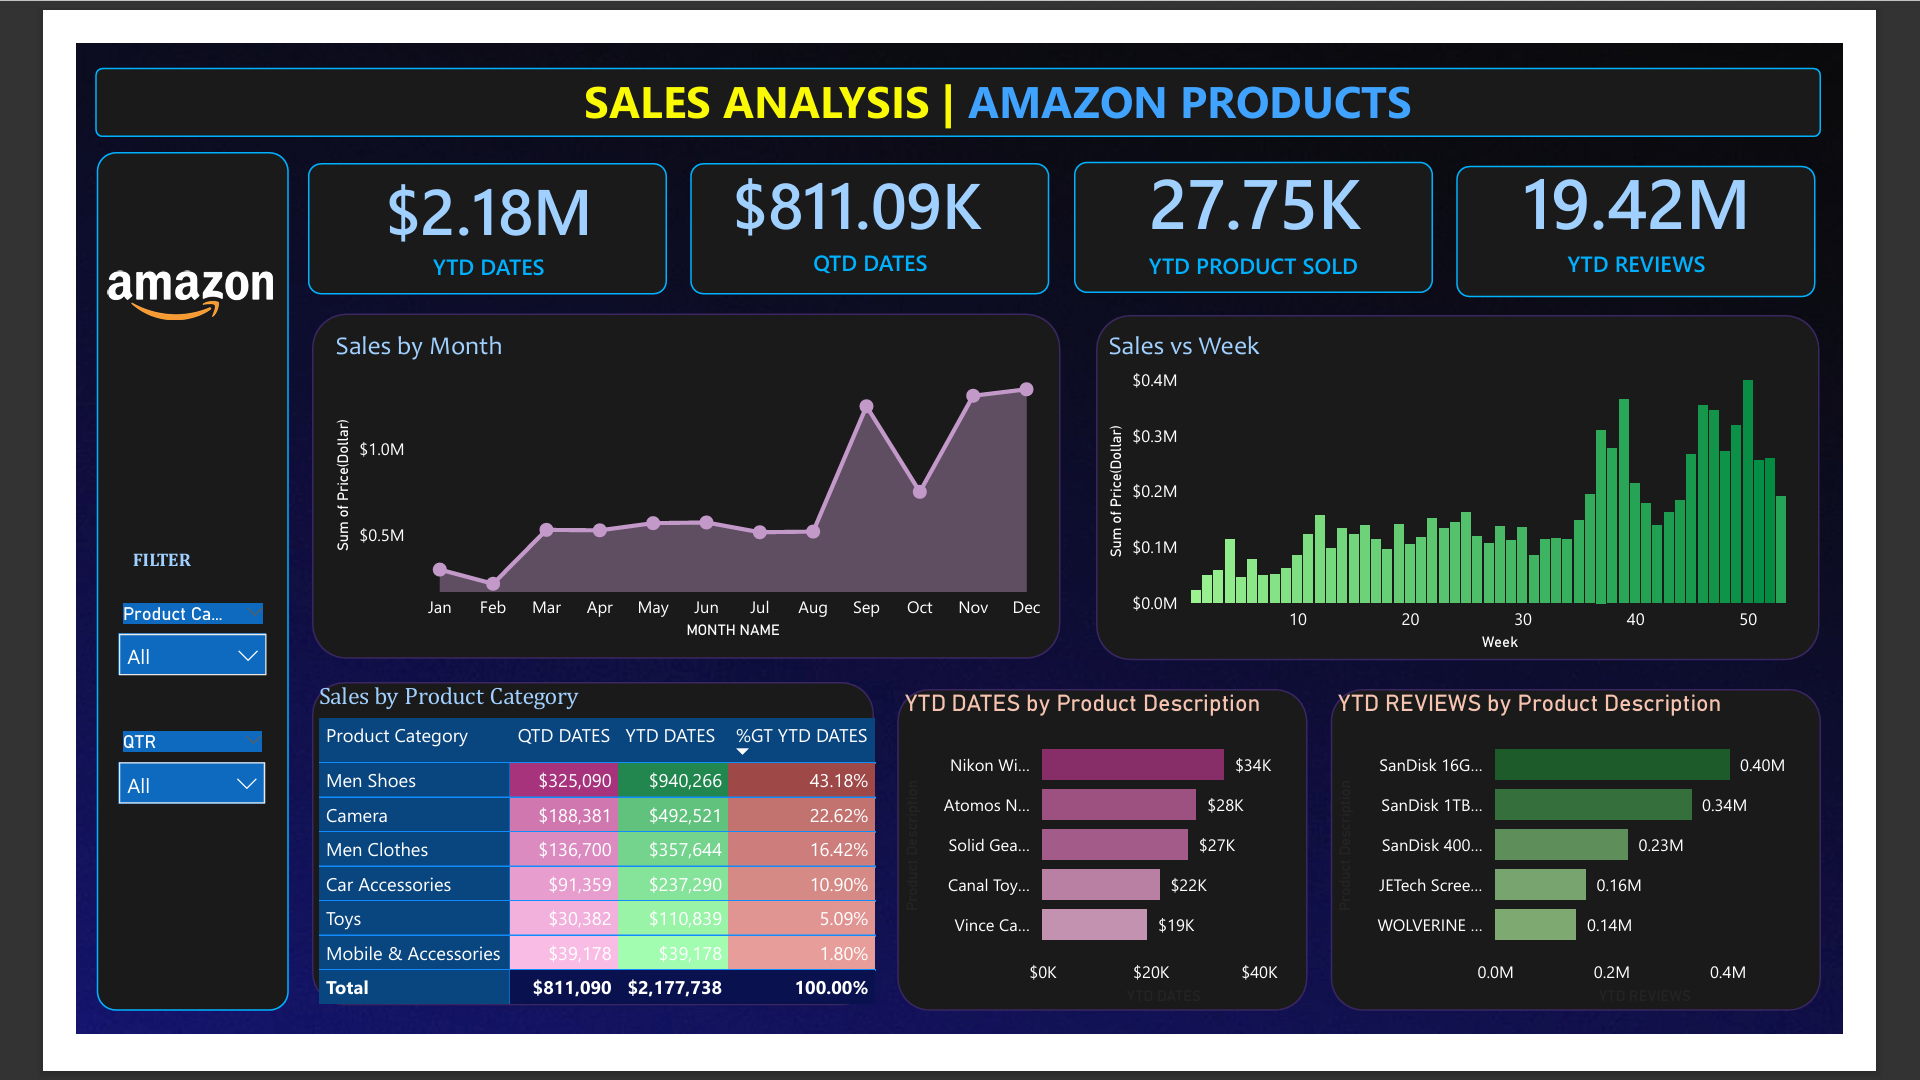

Layout of this report page (visuals, bound fields, positions):
{"tool":"powerbi","page":{"name":"Page 1","canvas":[1280,720],"ordinal":0},"visuals":[{"type":"shape","box":[14,18,1250,50],"z":0},{"type":"shape","box":[168.1,86.9,260,95],"z":0,"group":"g1"},{"type":"cardVisual","fields":{"Data":["Amazon_Data.YTD DATES"]},"box":[179.8,76.9,236.7,105],"z":1000,"group":"g1"},{"type":"textbox","box":[335,14,665.7,60],"z":1000},{"type":"shape","box":[445.3,86.9,260,95],"z":2000,"group":"g1"},{"type":"shape","box":[15.1,78.7,139.3,622.3],"z":2000},{"type":"shape","box":[723.1,85.3,260,95],"z":3000,"group":"g1"},{"type":"group","id":"g1","title":"Group 1","box":[168.1,63.6,1091.7,122.7],"z":3000},{"type":"shape","box":[999.8,88.6,260,95],"z":4000,"group":"g1"},{"type":"shape","box":[171.1,195.6,542.2,250.2],"z":4000},{"type":"cardVisual","fields":{"Data":["Amazon_Data.QTD DATES"]},"box":[456.4,66.9,236.7,120],"z":5000,"group":"g1"},{"type":"areaChart","title":"Sales by Month","fields":{"Category":["DATE TABLE.MONTH NAME"],"Y":["Amazon_Data.Price(Dollar)"]},"box":[183.2,207.4,525.4,228.6],"z":5000},{"type":"cardVisual","fields":{"Data":["Amazon_Data.YTD PRODUCT SOLD"]},"box":[734.8,63.6,236.7,120],"z":6000,"group":"g1"},{"type":"shape","box":[738.9,196.8,523.9,249.8],"z":6000},{"type":"cardVisual","fields":{"Data":["Amazon_Data.YTD REVIEWS"]},"box":[1011.4,63.6,236.7,120],"z":7000,"group":"g1"},{"type":"columnChart","title":"Sales vs Week","fields":{"Category":["DATE TABLE.WEEK"],"Y":["Amazon_Data.Price(Dollar)"]},"box":[743.5,207.4,520.9,237.7],"z":7000},{"type":"shape","box":[171.1,463.3,407.3,233.2],"z":8000},{"type":"pivotTable","title":"Sales by Product Category","fields":{"Rows":["Amazon_Data.Product Category"],"Values":["Amazon_Data.QTD DATES","Amazon_Data.YTD DATES1","Amazon_Data.YTD DATES"]},"box":[171.1,463.3,424,237.7],"z":9000},{"type":"shape","box":[908.5,467.9,355.8,233.2],"z":10000},{"type":"shape","box":[595.1,467.9,296.8,233.2],"z":11000},{"type":"clusteredBarChart","fields":{"Y":["Amazon_Data.YTD DATES"],"Category":["Amazon_Data.Product Description"]},"box":[595.1,467.9,299.8,233.2],"z":12000},{"type":"clusteredBarChart","fields":{"Category":["Amazon_Data.Product Description"],"Y":["Amazon_Data.YTD REVIEWS"]},"box":[908.5,467.9,355.8,233.2],"z":13000},{"type":"slicer","fields":{"Values":["Amazon_Data.Product Category"]},"box":[21.2,401.3,127.2,68.1],"z":13001},{"type":"slicer","fields":{"Values":["DATE TABLE.QTR"]},"box":[21.2,493.6,125.7,75.7],"z":13002},{"type":"textbox","box":[36.3,360.4,71.2,30.3],"z":13003},{"type":"image","box":[18.2,128.7,130.2,107.5],"z":13004}]}

Visuals, with their boxes in screenshot pixels (x1, y1, x2, y2), scaled from the page's 1280x720 canvas onto the 1920x1080 screenshot:
shape: 21/27/1896/102
shape: 252/130/642/273
cardVisual - Amazon_Data.YTD DATES: 270/115/625/273
textbox: 502/21/1501/111
shape: 668/130/1058/273
shape: 23/118/232/1052
shape: 1085/128/1475/270
"Group 1" group: 252/95/1890/279
shape: 1500/133/1890/275
shape: 257/293/1070/669
cardVisual - Amazon_Data.QTD DATES: 685/100/1040/280
"Sales by Month" areaChart: 275/311/1063/654
cardVisual - Amazon_Data.YTD PRODUCT SOLD: 1102/95/1457/275
shape: 1108/295/1894/670
cardVisual - Amazon_Data.YTD REVIEWS: 1517/95/1872/275
"Sales vs Week" columnChart: 1115/311/1897/668
shape: 257/695/868/1045
"Sales by Product Category" pivotTable: 257/695/893/1052
shape: 1363/702/1896/1052
shape: 893/702/1338/1052
clusteredBarChart - Amazon_Data.YTD DATES x Amazon_Data.Product Description: 893/702/1342/1052
clusteredBarChart - Amazon_Data.Product Description x Amazon_Data.YTD REVIEWS: 1363/702/1896/1052
slicer - Amazon_Data.Product Category: 32/602/223/704
slicer - DATE TABLE.QTR: 32/740/220/854
textbox: 54/541/161/586
image: 27/193/223/354
